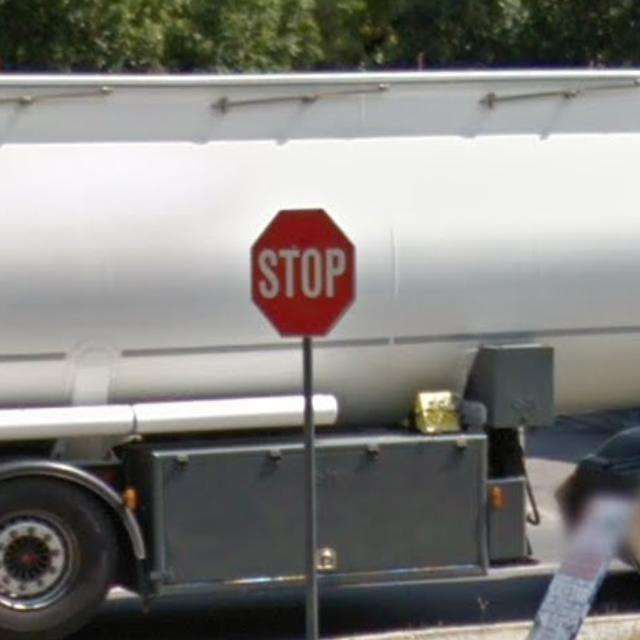prio_stop: (248, 208, 356, 338)
